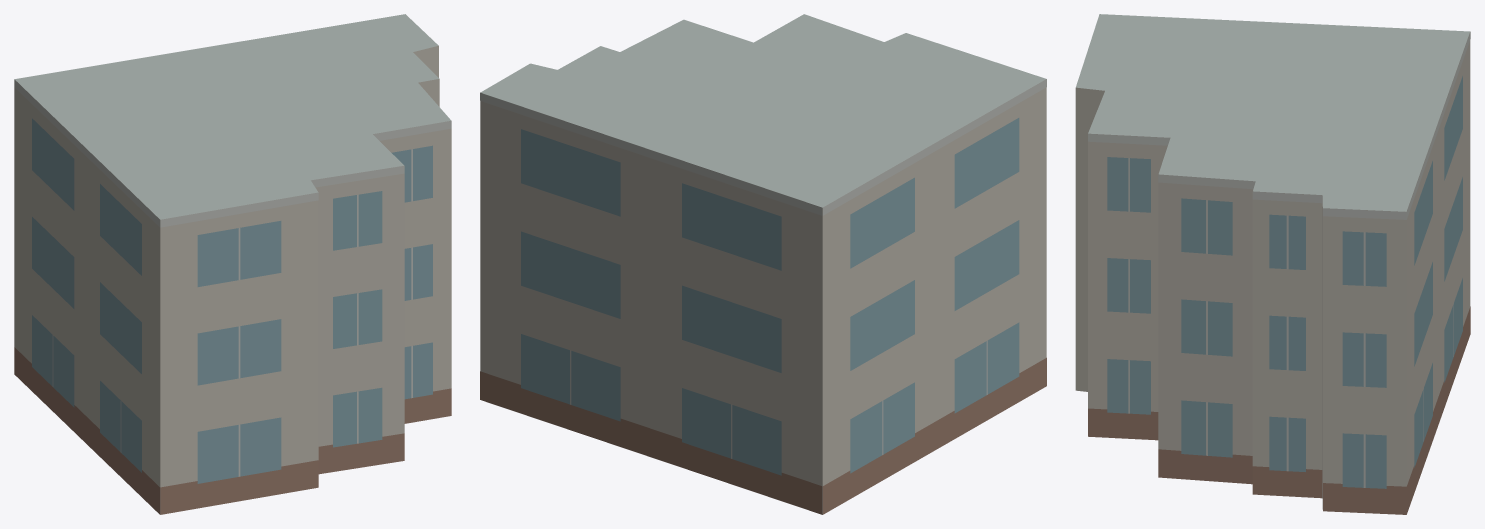
File: survey-upis-32655984.glb
3 views of the same model, side by side, from view 1: azimuth 30°, elevation 25°; view 2: azimuth 150°, elevation 25°; view 3: azimuth 270°, elevation 25° (orthographic). The views are drawn at different scales.
Visible parts, largest first — view 1: survey-upis-32655984.tmp; view 2: survey-upis-32655984.tmp; view 3: survey-upis-32655984.tmp.
Part boxes in pixels (x1=…): survey-upis-32655984.tmp: x1=14, y1=14, x2=451, y2=514; survey-upis-32655984.tmp: x1=480, y1=14, x2=1046, y2=514; survey-upis-32655984.tmp: x1=1075, y1=14, x2=1470, y2=514.
Bounding box in the file's own units: 12.75 × 9.1 × 10.75.
